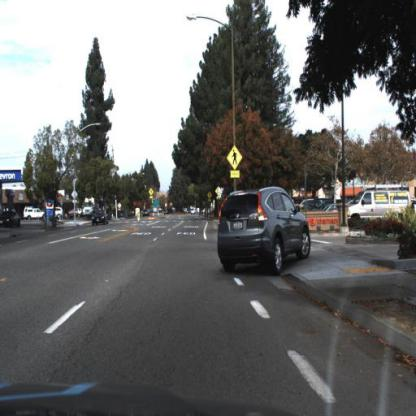car: (217, 182, 311, 277), (21, 203, 48, 224), (90, 204, 111, 230)
truck: (82, 196, 96, 220)
